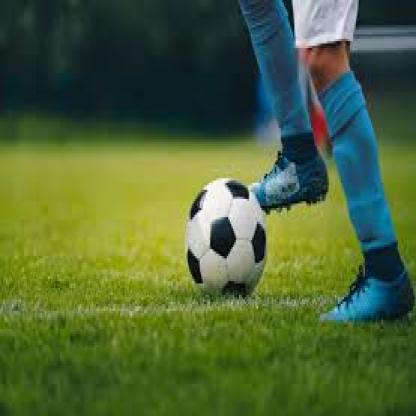ball: (186, 178, 266, 300)
